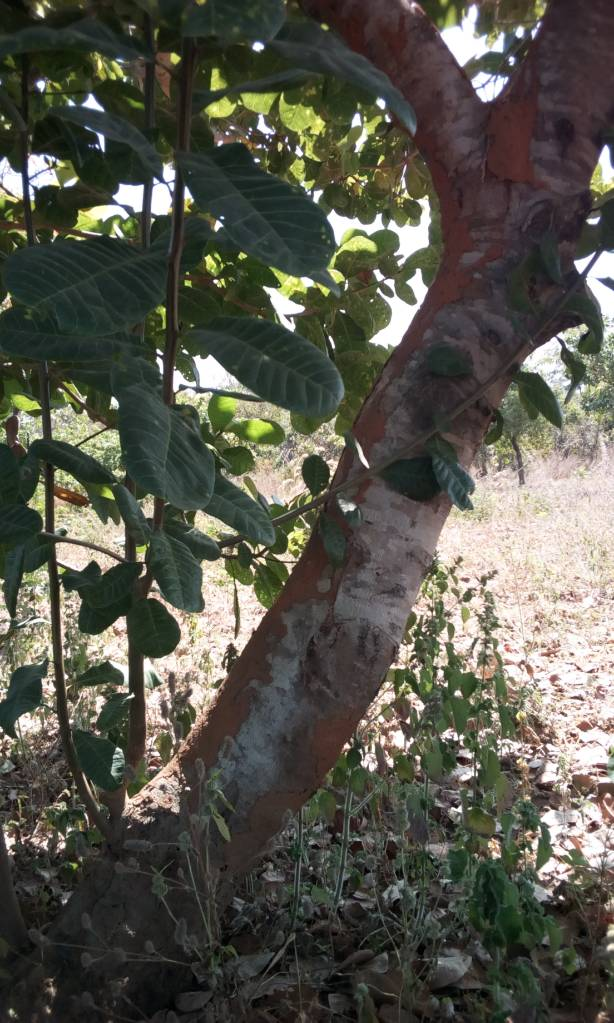Termites: (206, 574, 320, 741), (348, 350, 419, 444), (439, 153, 469, 305)
